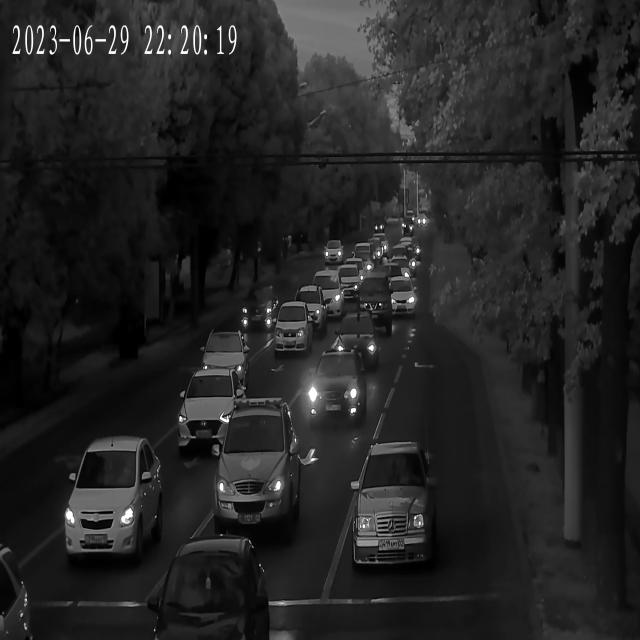Car: (59, 434, 162, 567), (208, 398, 300, 536), (150, 539, 267, 638), (346, 440, 434, 571), (171, 372, 248, 459), (309, 352, 366, 426), (196, 334, 250, 396), (0, 545, 29, 640), (328, 322, 378, 373), (267, 300, 314, 342), (306, 270, 347, 318), (290, 286, 328, 332), (238, 290, 278, 331), (352, 284, 392, 324), (332, 263, 366, 294), (390, 280, 419, 316), (349, 244, 378, 272), (386, 251, 414, 275), (360, 238, 386, 262), (384, 260, 408, 284), (397, 238, 420, 260), (323, 241, 344, 261), (402, 215, 416, 232)
